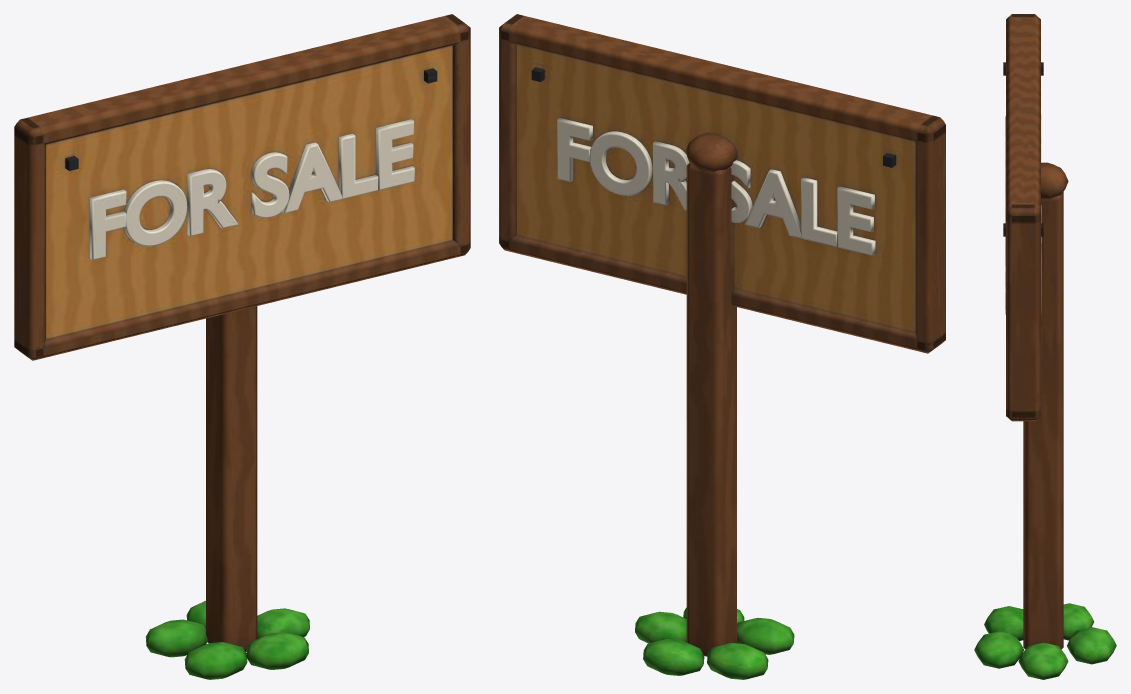
The model's file is forsale_sign.glb.
3 views of the same model, side by side, from view 1: azimuth 30°, elevation 25°; view 2: azimuth 150°, elevation 25°; view 3: azimuth 270°, elevation 25° (orthographic). The views are drawn at different scales.
Visible parts, largest first — view 1: forsale_sign; view 2: forsale_sign; view 3: forsale_sign.
Boxes of the visible parts, x1,y1,x2,y2 form: forsale_sign: [14, 14, 470, 679]; forsale_sign: [499, 14, 945, 679]; forsale_sign: [974, 14, 1116, 679].
Size of the model in its own units: 0.94 by 1.19 by 0.2847.
1 material, 1 textured.
